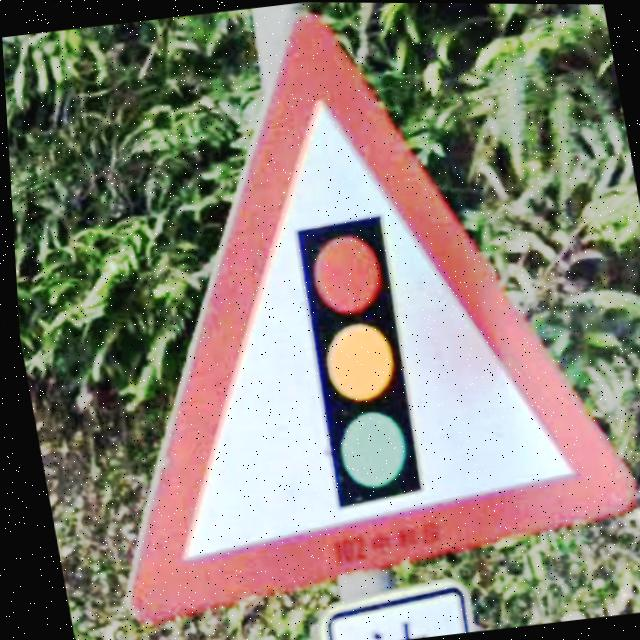signalahead: (119, 13, 633, 627)
